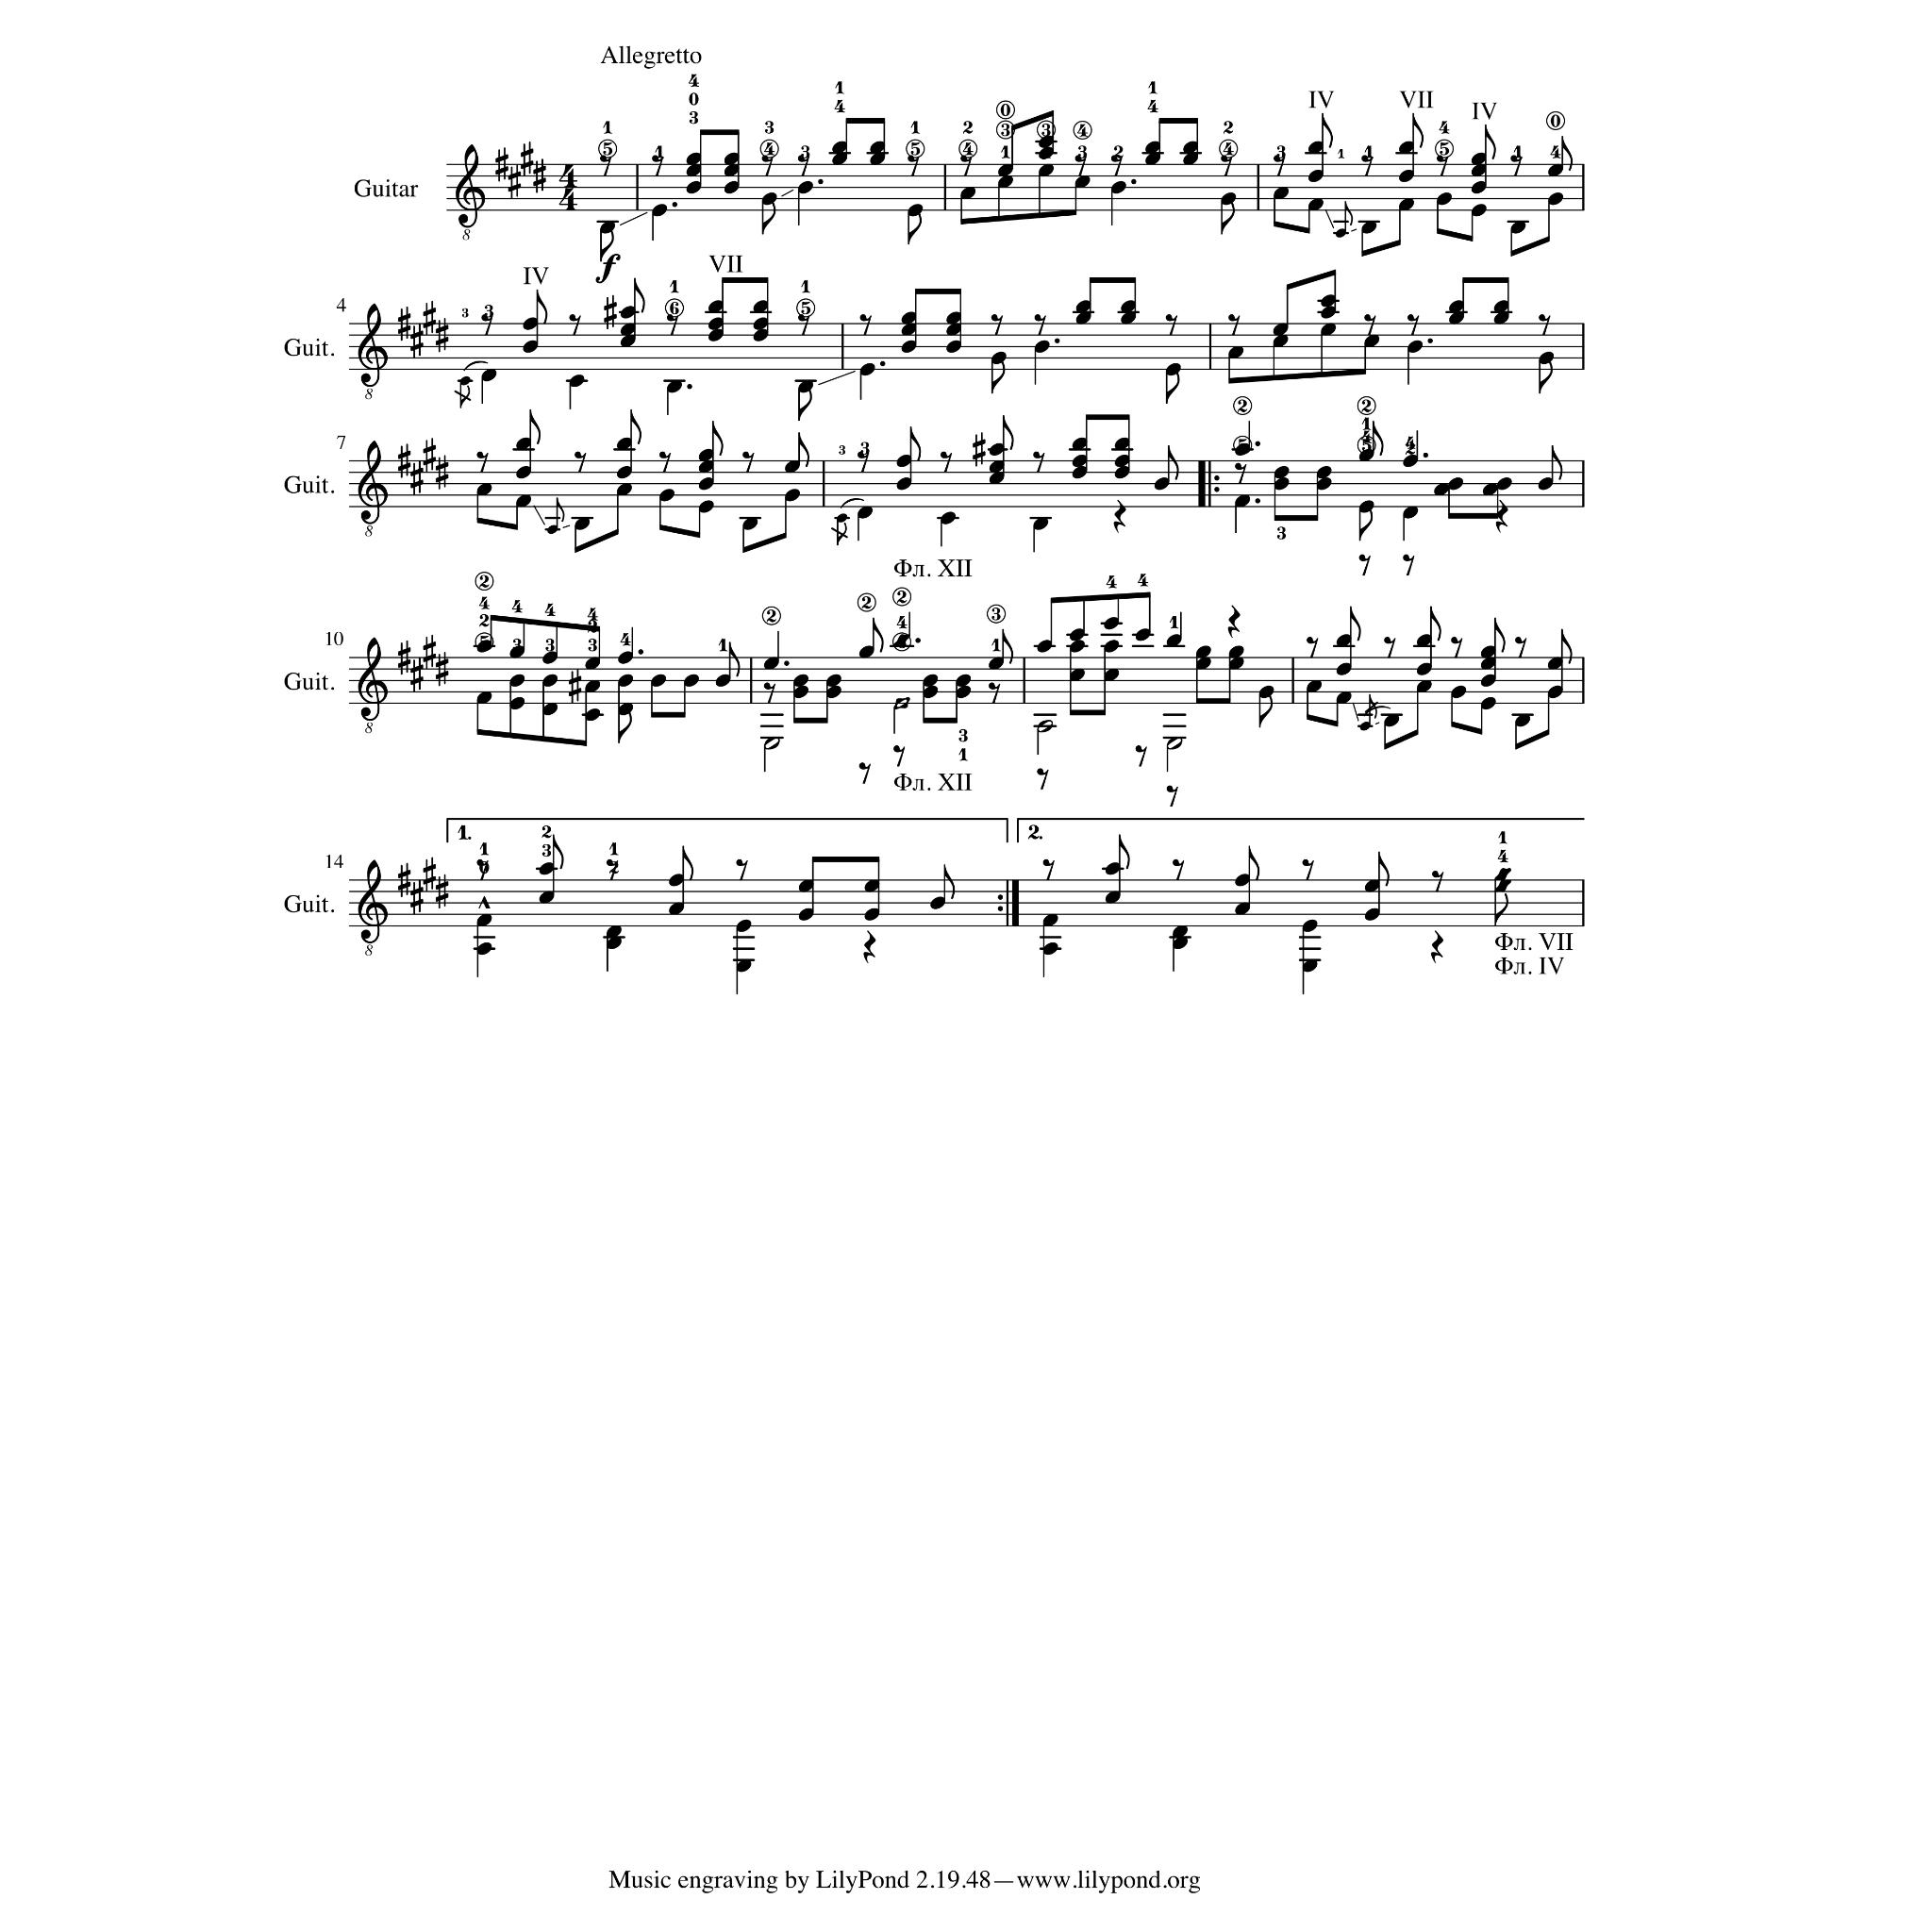flag8thDown: (453, 386, 472, 416), (830, 523, 849, 553), (1221, 202, 1236, 236), (600, 228, 615, 262), (991, 360, 1006, 394), (1358, 508, 1374, 541), (1258, 694, 1274, 728), (798, 389, 813, 421), (1494, 894, 1509, 926), (762, 202, 775, 236), (908, 211, 922, 245), (1540, 360, 1553, 394), (1166, 372, 1179, 404), (619, 711, 632, 743)
flag8thUp: (1364, 688, 1379, 720), (1322, 113, 1333, 149), (1562, 136, 1574, 172), (1412, 113, 1424, 149), (1485, 125, 1496, 160), (634, 278, 645, 314), (537, 290, 548, 325), (1168, 445, 1179, 481), (1552, 445, 1563, 481), (1373, 421, 1384, 457), (630, 409, 641, 445), (1003, 415, 1014, 451), (529, 409, 541, 445), (910, 426, 922, 462), (712, 421, 724, 457), (798, 432, 809, 468), (1494, 618, 1506, 654), (1350, 607, 1361, 642), (1430, 607, 1441, 642), (729, 642, 741, 678), (873, 618, 884, 654), (944, 864, 956, 900), (1378, 852, 1390, 888), (1561, 630, 1573, 664), (1002, 630, 1013, 664), (1119, 836, 1130, 870), (1249, 847, 1260, 881), (553, 836, 564, 870), (682, 847, 693, 881), (1345, 202, 1353, 226), (557, 498, 564, 523)
gClef: (455, 143, 485, 228), (358, 303, 388, 388), (358, 441, 388, 525), (358, 637, 388, 722), (358, 859, 388, 944)
noteheadBlack: (892, 634, 911, 647), (1307, 142, 1324, 155), (1307, 170, 1324, 183), (1307, 198, 1324, 211), (1547, 164, 1564, 177), (1547, 192, 1564, 206), (1436, 192, 1453, 206), (1398, 142, 1415, 155), (1398, 170, 1415, 183), (1398, 198, 1415, 211), (723, 153, 740, 166), (723, 164, 740, 177), (723, 181, 740, 194), (651, 204, 668, 217), (1074, 175, 1091, 189), (1272, 324, 1289, 337), (1272, 335, 1289, 348), (1538, 352, 1555, 365), (619, 306, 636, 319), (619, 324, 636, 337), (619, 335, 636, 348), (568, 375, 585, 388), (666, 380, 683, 393), (991, 352, 1008, 365), (945, 312, 962, 325), (945, 324, 962, 337), (945, 341, 962, 354), (900, 312, 917, 325), (900, 324, 917, 337), (900, 341, 917, 354), (1274, 466, 1291, 479), (1274, 477, 1291, 491), (1234, 443, 1251, 457), (1234, 494, 1251, 508), (1496, 477, 1513, 491), (1402, 506, 1419, 519), (1402, 455, 1419, 468), (658, 489, 675, 502), (475, 483, 492, 496), (857, 506, 874, 519), (989, 443, 1006, 457), (989, 460, 1006, 474), (989, 472, 1006, 485), (783, 460, 800, 474), (783, 489, 800, 502), (741, 518, 758, 531), (1306, 680, 1323, 693), (1036, 640, 1053, 653), (1383, 714, 1400, 727), (617, 703, 634, 716), (617, 675, 634, 688), (617, 651, 634, 664), (475, 691, 492, 705), (475, 640, 492, 653), (541, 675, 558, 688), (541, 703, 558, 716), (541, 651, 558, 664), (955, 686, 972, 699), (955, 675, 972, 688), (858, 646, 875, 659), (1172, 925, 1189, 939), (1172, 937, 1189, 950), (1234, 903, 1251, 916), (1234, 874, 1251, 888), (1041, 942, 1058, 956), (1041, 914, 1058, 927), (1494, 879, 1511, 892), (1494, 868, 1511, 881), (1364, 908, 1381, 922), (1364, 879, 1381, 892), (606, 937, 623, 950), (606, 925, 623, 939), (475, 942, 492, 956), (475, 914, 492, 927), (668, 903, 685, 916), (668, 874, 685, 888), (1274, 187, 1289, 200), (1145, 142, 1160, 155), (1145, 153, 1160, 166), (1111, 181, 1126, 194), (1221, 192, 1236, 206), (1183, 142, 1198, 155), (1183, 153, 1198, 166), (1510, 222, 1525, 235), (1472, 153, 1487, 166), (1472, 164, 1487, 177), (1472, 181, 1487, 194), (1472, 204, 1487, 217), (1361, 222, 1376, 235), (761, 192, 776, 206), (686, 153, 701, 166), (686, 164, 701, 177), (686, 181, 701, 194), (832, 142, 847, 155), (832, 153, 847, 166), (798, 181, 813, 194), (600, 222, 615, 235), (998, 164, 1013, 177), (998, 175, 1013, 189), (1039, 136, 1054, 149), (1039, 147, 1054, 160), (1039, 164, 1054, 177), (908, 204, 923, 217), (870, 142, 885, 155), (870, 153, 885, 166), (960, 187, 975, 200), (1228, 346, 1243, 359), (1034, 341, 1049, 354), (1121, 300, 1136, 313), (1166, 363, 1181, 376), (1121, 312, 1136, 325), (1075, 300, 1091, 313), (1075, 312, 1091, 325), (1494, 300, 1509, 313), (1494, 312, 1509, 325), (1364, 335, 1379, 348), (1321, 295, 1336, 308), (1321, 306, 1336, 319), (1321, 324, 1336, 337), (1449, 300, 1464, 313), (1449, 312, 1464, 325), (1407, 341, 1423, 354), (708, 300, 724, 313), (708, 317, 724, 330), (708, 329, 724, 342), (523, 317, 538, 330), (523, 341, 538, 354), (481, 369, 496, 382), (859, 363, 874, 376), (798, 380, 813, 393), (753, 300, 768, 313), (753, 317, 768, 330), (753, 329, 768, 342), (1358, 501, 1374, 514), (1317, 466, 1332, 479), (1317, 477, 1332, 491), (1072, 438, 1087, 451), (1072, 455, 1087, 468), (1072, 466, 1087, 479), (1114, 466, 1129, 479), (1033, 518, 1048, 531), (1154, 477, 1169, 491), (1114, 438, 1129, 451), (1114, 455, 1129, 468), (1538, 477, 1553, 491), (1483, 483, 1498, 496), (1448, 477, 1463, 491), (1434, 483, 1449, 496), (1358, 449, 1374, 462), (617, 438, 632, 451), (617, 466, 632, 479), (617, 483, 632, 496), (575, 518, 590, 531), (698, 449, 713, 462), (698, 460, 713, 474), (698, 477, 713, 491), (698, 501, 713, 514), (516, 438, 531, 451), (516, 466, 531, 479), (516, 494, 531, 508), (896, 477, 911, 491), (941, 512, 956, 525), (896, 455, 911, 468), (1196, 658, 1211, 671), (1196, 646, 1211, 659), (1166, 634, 1181, 647), (1258, 686, 1274, 699), (1228, 646, 1243, 659), (1228, 658, 1243, 671), (1070, 669, 1085, 682), (1104, 617, 1119, 630), (1136, 628, 1151, 641), (1104, 640, 1119, 653), (1104, 669, 1119, 682), (1070, 628, 1085, 641), (1070, 640, 1085, 653), (1548, 686, 1563, 699), (1548, 658, 1563, 671), (1481, 697, 1496, 710), (1481, 675, 1496, 688), (1481, 658, 1496, 671), (1481, 646, 1496, 659), (1515, 714, 1530, 727), (1337, 691, 1352, 705), (1337, 663, 1352, 676), (1337, 634, 1352, 647), (1451, 686, 1466, 699), (1417, 634, 1432, 647), (1417, 663, 1432, 676), (1417, 680, 1432, 693), (585, 708, 600, 722), (585, 680, 600, 693), (585, 658, 600, 671), (684, 675, 699, 688), (715, 675, 730, 688), (651, 675, 666, 688), (509, 646, 525, 659), (509, 697, 525, 710), (509, 675, 525, 688), (989, 658, 1004, 671), (923, 686, 938, 699), (923, 675, 938, 688), (793, 686, 808, 699), (764, 658, 779, 671), (826, 675, 841, 688), (826, 686, 841, 699), (793, 675, 808, 688), (1106, 862, 1121, 875), (1106, 891, 1121, 905), (930, 896, 945, 909), (1303, 920, 1318, 933), (1303, 959, 1318, 973), (539, 891, 554, 905), (539, 862, 554, 875), (864, 908, 879, 922), (798, 908, 813, 922), (798, 879, 813, 892), (864, 879, 879, 892), (736, 959, 751, 973), (736, 920, 751, 933), (1335, 228, 1346, 240), (459, 375, 471, 387), (547, 525, 558, 536), (836, 513, 847, 525), (1359, 721, 1371, 732)
noteheadHalf: (892, 697, 911, 710), (1166, 738, 1183, 751), (1037, 720, 1054, 733), (763, 738, 780, 751)
rest8th: (1220, 155, 1233, 177), (1509, 155, 1523, 177), (1360, 155, 1374, 177), (1436, 155, 1449, 177), (760, 155, 774, 177), (796, 155, 809, 177), (1074, 155, 1087, 177), (651, 155, 664, 177), (1227, 314, 1241, 337), (1538, 314, 1551, 337), (568, 314, 581, 337), (666, 314, 679, 337), (991, 314, 1004, 337), (858, 314, 872, 337), (1032, 451, 1045, 474), (1234, 462, 1247, 485), (574, 451, 587, 474), (658, 451, 672, 474), (475, 451, 489, 474), (857, 451, 870, 474), (940, 451, 953, 474), (741, 451, 755, 474), (1166, 785, 1179, 808), (1306, 637, 1319, 659), (1036, 768, 1049, 791), (1383, 637, 1396, 659), (892, 745, 906, 768), (858, 762, 872, 785), (1431, 871, 1444, 893), (1402, 555, 1415, 575), (988, 683, 1001, 704), (763, 683, 776, 704), (1172, 860, 1185, 881), (1041, 860, 1055, 881), (606, 860, 619, 881), (475, 860, 489, 881), (1274, 155, 1285, 177), (1111, 155, 1123, 177), (600, 155, 611, 177), (908, 155, 919, 177), (960, 155, 972, 177), (1034, 314, 1045, 337), (1166, 314, 1177, 337), (1364, 314, 1375, 337), (1407, 314, 1419, 337), (481, 314, 492, 337), (798, 314, 809, 337), (1136, 745, 1147, 768), (1515, 637, 1526, 659), (1451, 637, 1462, 659), (1358, 555, 1370, 575), (1302, 860, 1313, 881), (736, 860, 747, 881)
restQuarter: (1113, 500, 1126, 534), (1495, 500, 1508, 534), (1227, 605, 1241, 639), (1431, 930, 1444, 964), (863, 930, 876, 964)
